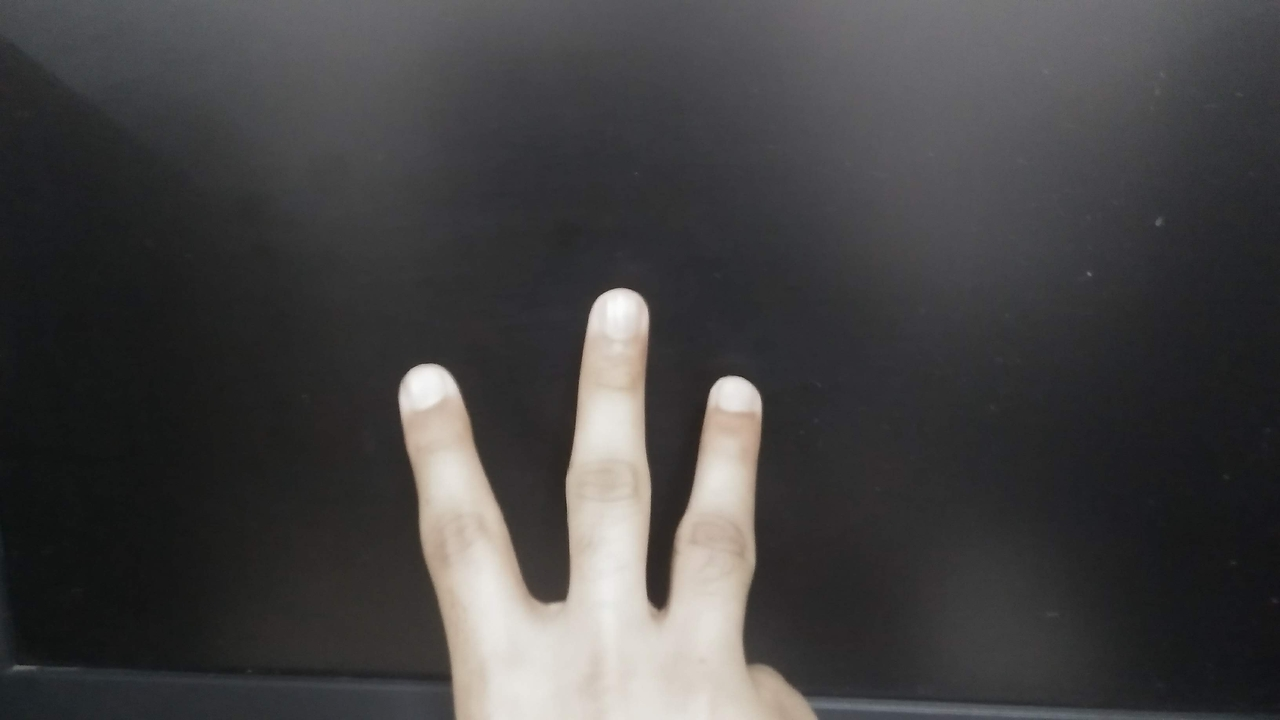fingertip: (390, 360, 466, 434), (582, 286, 652, 360), (694, 370, 768, 438)
